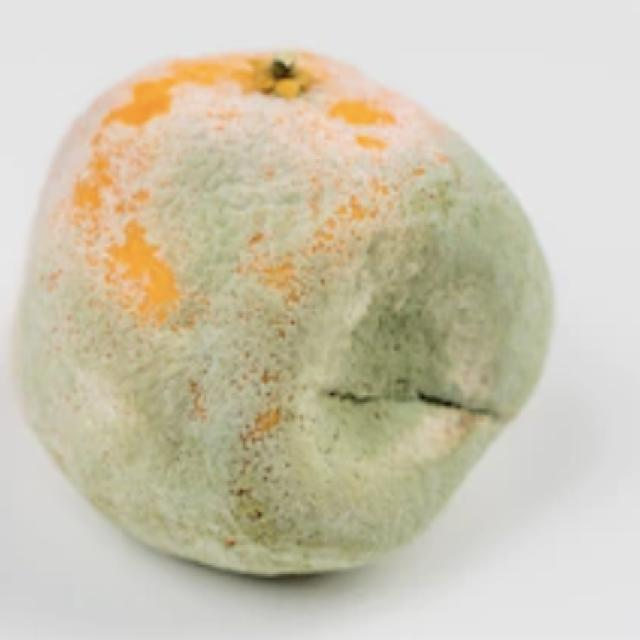sangat-busuk: (18, 50, 552, 574)
